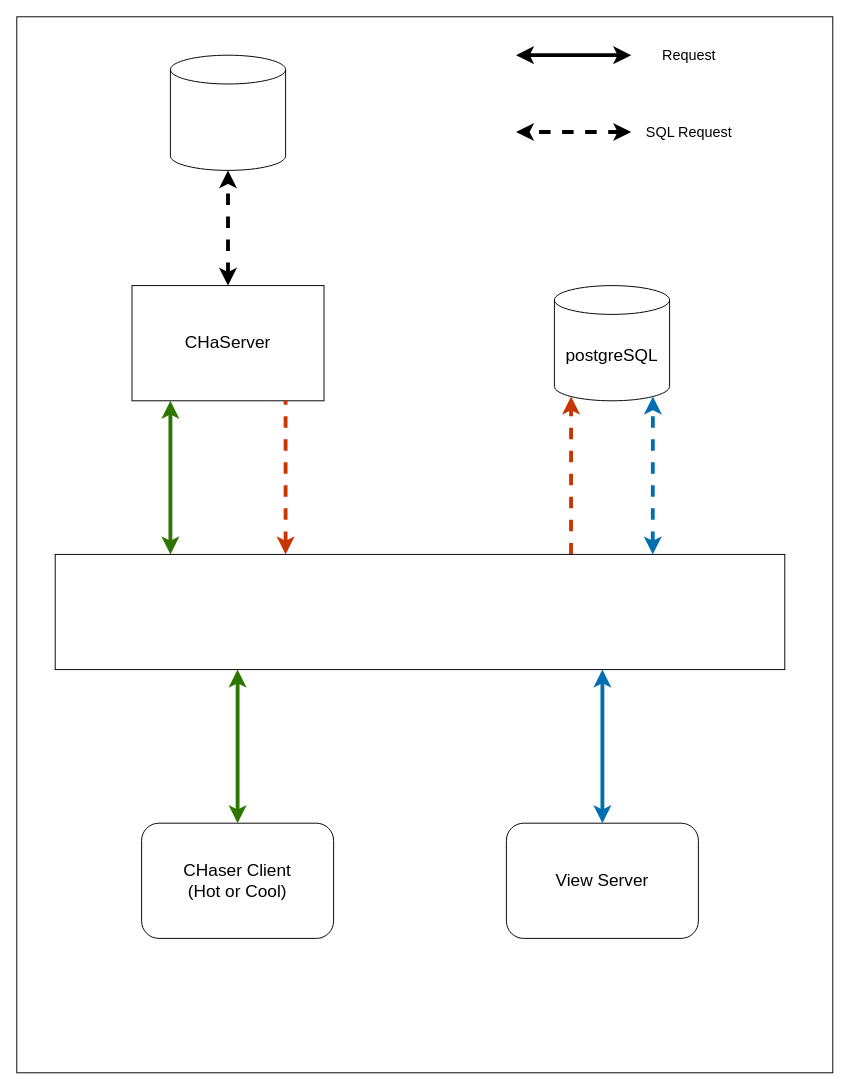
The diagram is 850 pixels wide and 1090 high, and some of its shapes have lost their labels. Here are the shapes that lost their labels. From the top down, the box of each, then its label:
(169, 54, 286, 170): Redis
(54, 553, 785, 670): ApolloServer
